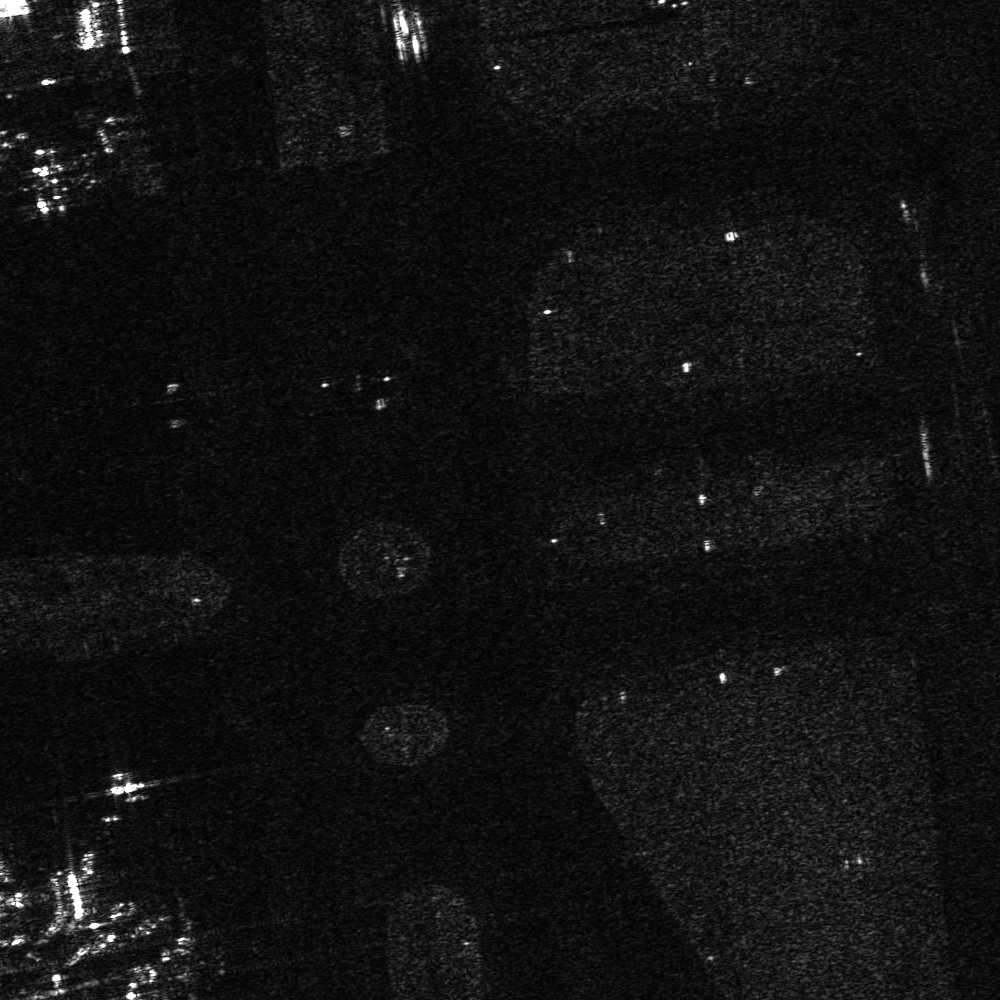Boeing787: (5, 139, 96, 217)
